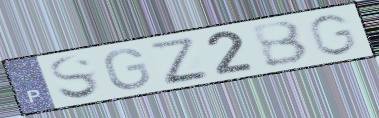2: (208, 28, 259, 79)
B: (249, 19, 313, 70)
G: (306, 12, 360, 57), (102, 47, 153, 91)
S: (47, 53, 104, 101)
Z: (145, 35, 213, 87)
